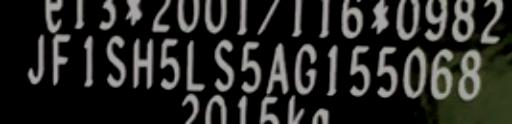letter: (456, 44, 484, 104), (372, 41, 400, 99), (401, 45, 429, 101), (182, 38, 210, 92), (265, 40, 293, 94), (347, 41, 373, 99), (211, 36, 237, 92), (128, 36, 154, 92), (157, 36, 183, 92), (293, 41, 319, 97), (428, 45, 454, 101), (76, 30, 100, 90), (104, 30, 128, 90), (22, 30, 46, 86), (48, 32, 72, 88), (240, 38, 262, 96), (324, 41, 340, 99)
